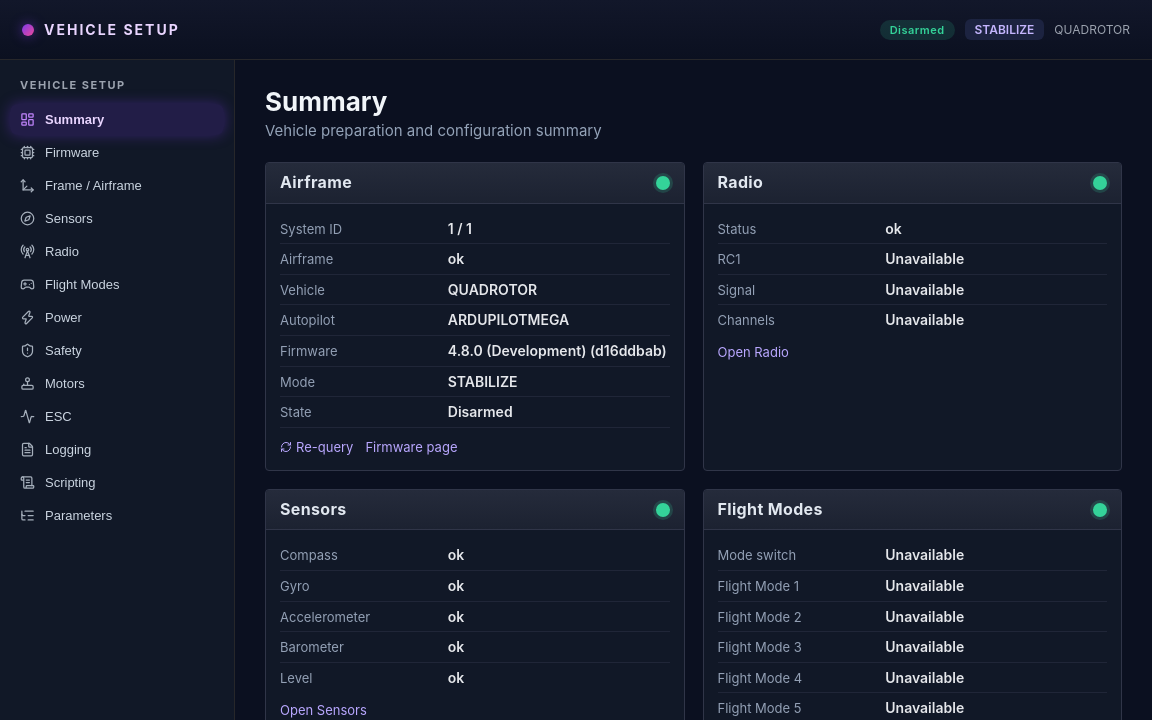
Test case: SetupConfig — shell and navigation › navigates to the Frame / Airframe page (Phase 8B)
The width and height of the screenshot is (1152, 720).
Click the button with test id "setup-nav-frame" at (117, 186), box [10,170,224,201]
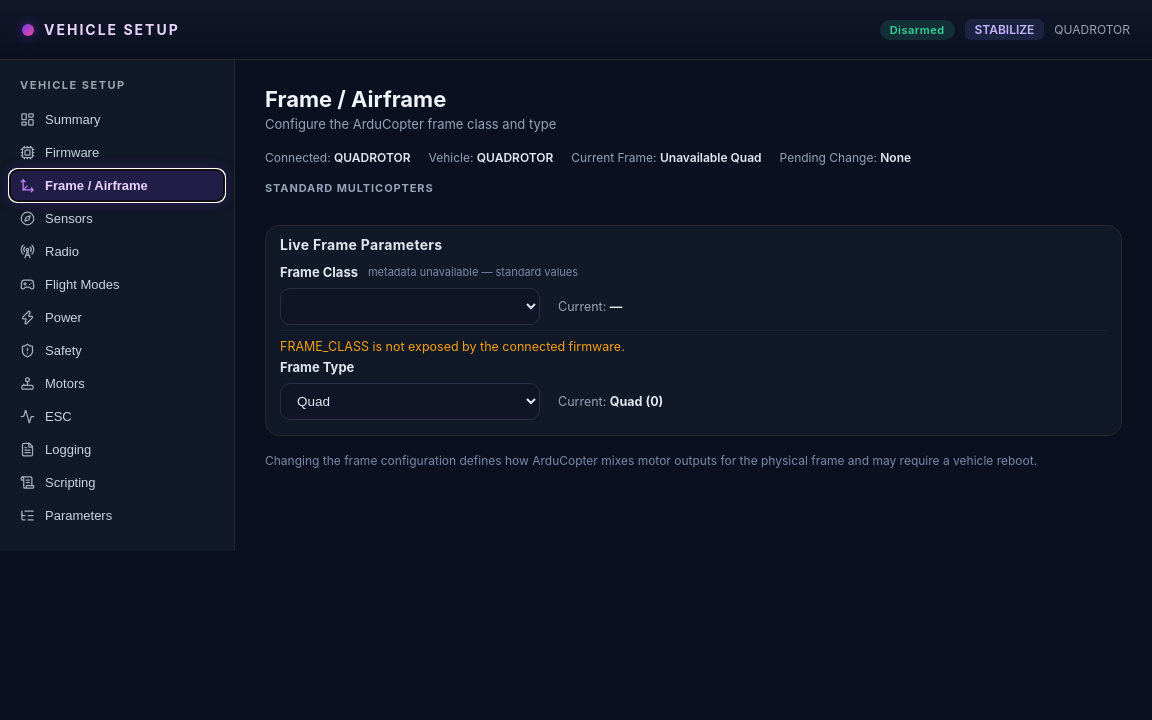
Check: the element with test id "setup-frame" is shown, box [265,86,1122,470]
Check: the element with test id "frame-field-FRAME_TYPE" is shown, box [280,359,663,420]
